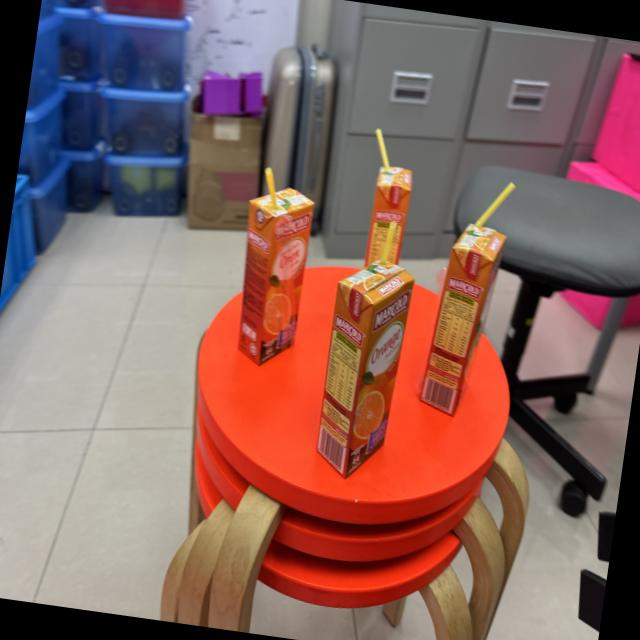drink_carton: (306, 205, 428, 488), (408, 162, 520, 429), (221, 154, 325, 375), (348, 118, 428, 276)
